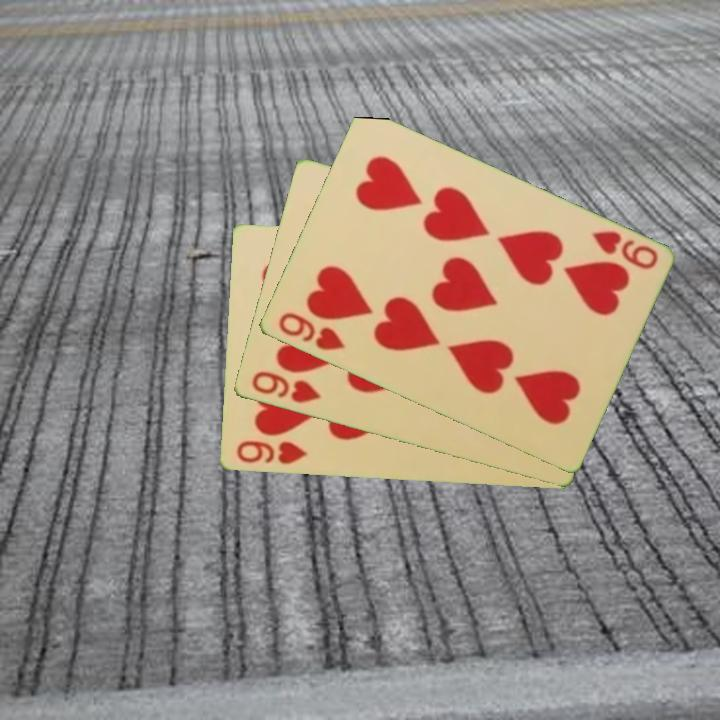9h: (587, 227, 661, 273), (274, 309, 348, 354), (247, 367, 323, 407), (232, 438, 310, 467)
